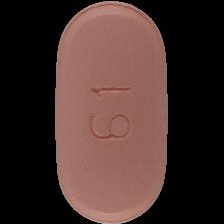50090-1420: (0, 0, 224, 224)
